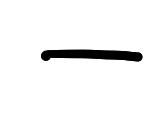minus: (41, 49, 143, 62)
